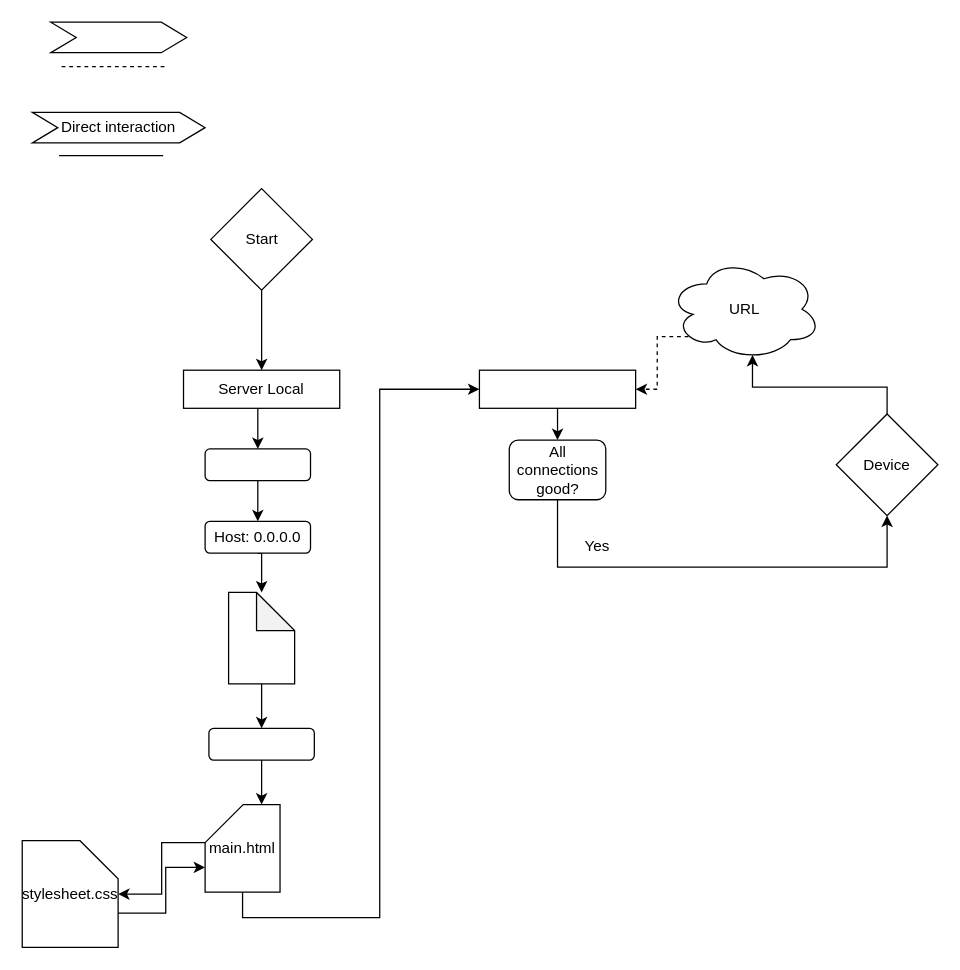
The diagram is 960 pixels wide and 970 high, and some of its shapes have lost their labels. Here are the shapes that lost their labels. From the top down, the box of each, then its label:
(50, 21, 187, 53): Net-Based
(478, 369, 636, 408): Website
(204, 448, 311, 481): Terminal Start
(227, 591, 295, 684): app.py
(208, 727, 314, 760): variable = 1
